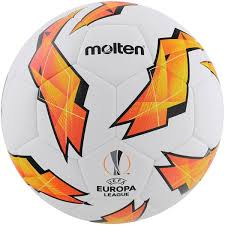top: (1, 1, 225, 223)
